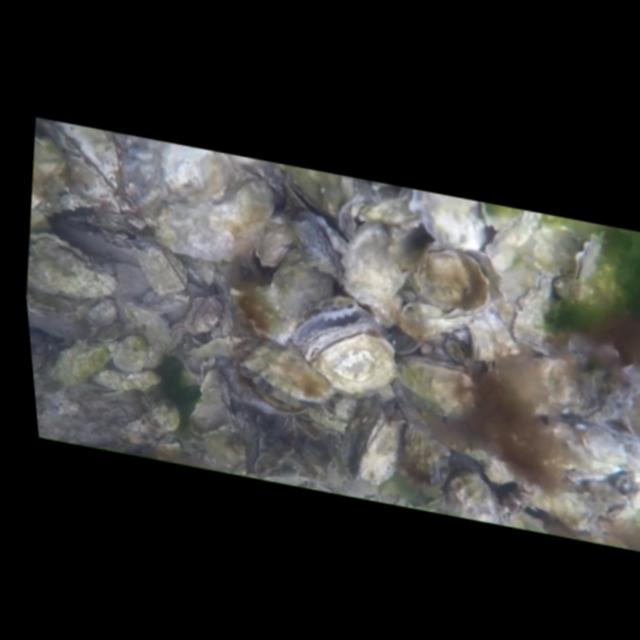Oyster-Closed: (567, 334, 640, 432), (342, 223, 406, 327), (27, 233, 117, 299), (346, 397, 405, 485), (411, 192, 494, 250), (400, 352, 474, 417), (412, 249, 489, 310), (162, 144, 233, 202), (30, 137, 66, 232), (401, 424, 451, 486), (442, 471, 501, 523), (136, 246, 187, 295), (574, 233, 603, 298), (113, 335, 149, 372)
Oyster-Indeterminate: (292, 222, 341, 278), (183, 296, 223, 334), (256, 226, 292, 265), (170, 321, 188, 349)
Oyster-Open: (293, 306, 397, 398), (238, 339, 341, 414), (190, 370, 232, 434)
